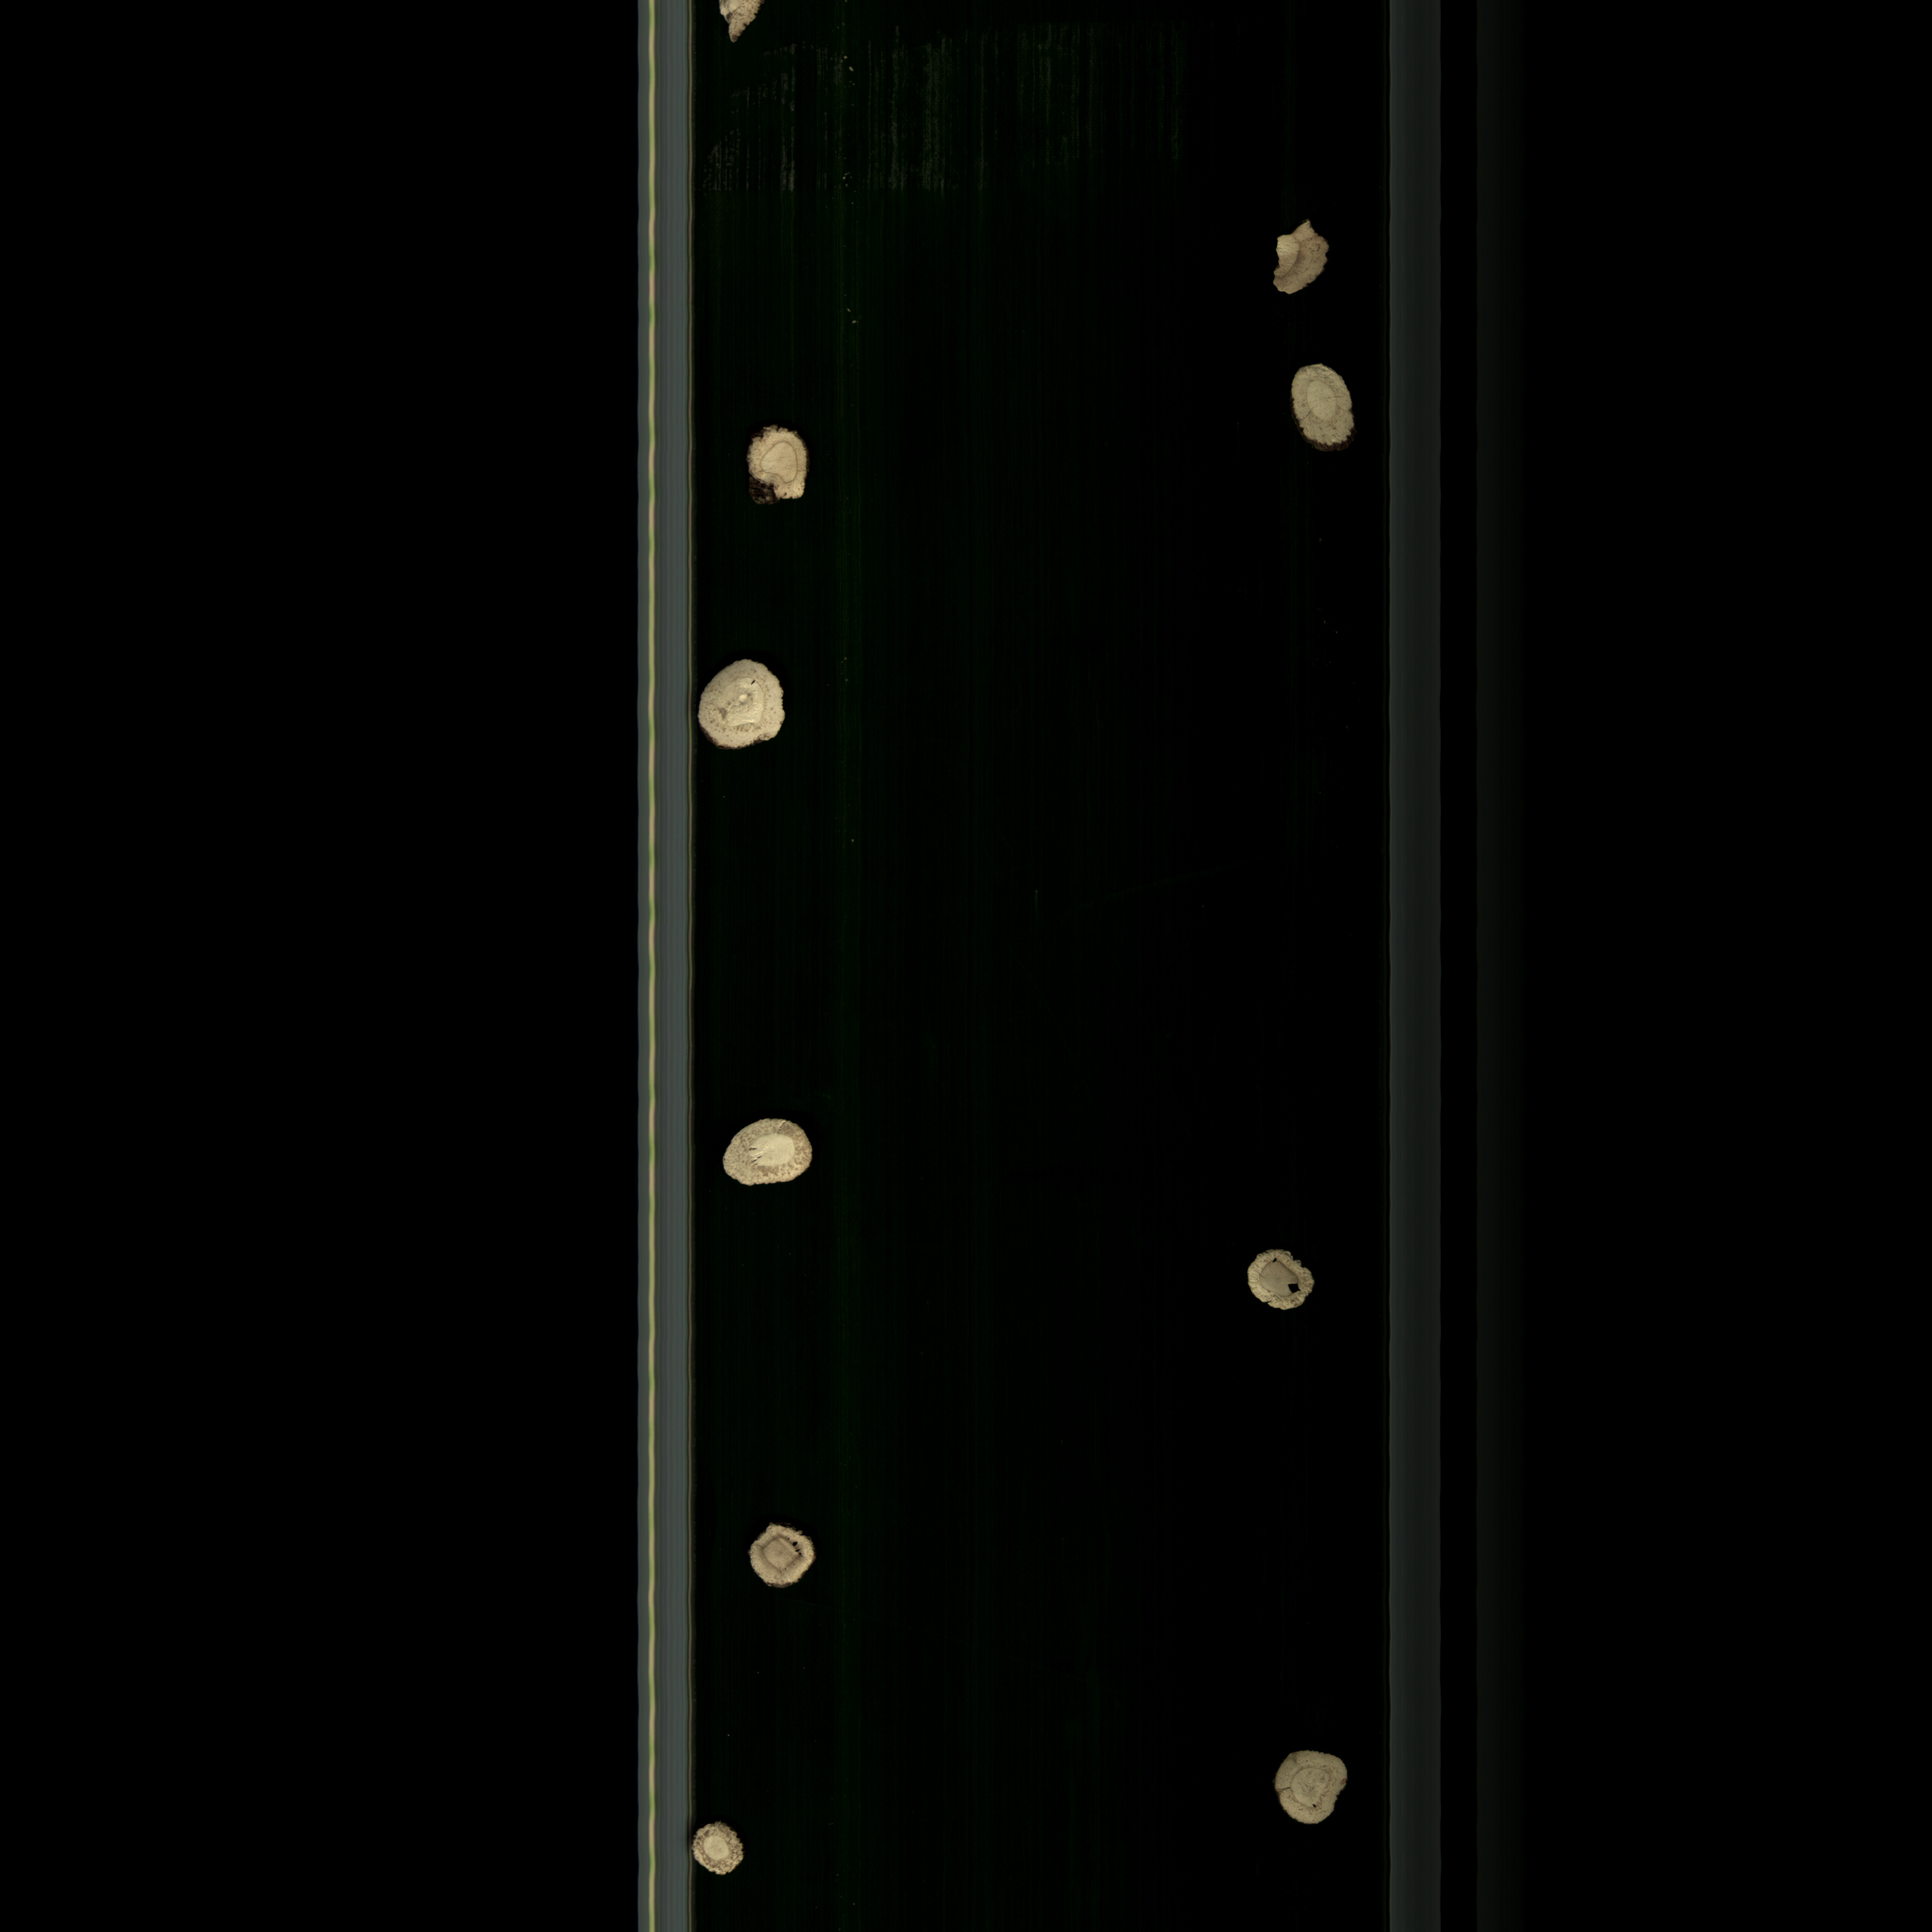hole: (692, 649, 798, 764), (731, 1514, 837, 1603), (1231, 1242, 1329, 1320)
moldy: (727, 418, 824, 513), (713, 1111, 817, 1196), (1281, 354, 1361, 464), (1261, 221, 1336, 308), (685, 1819, 750, 1888)
